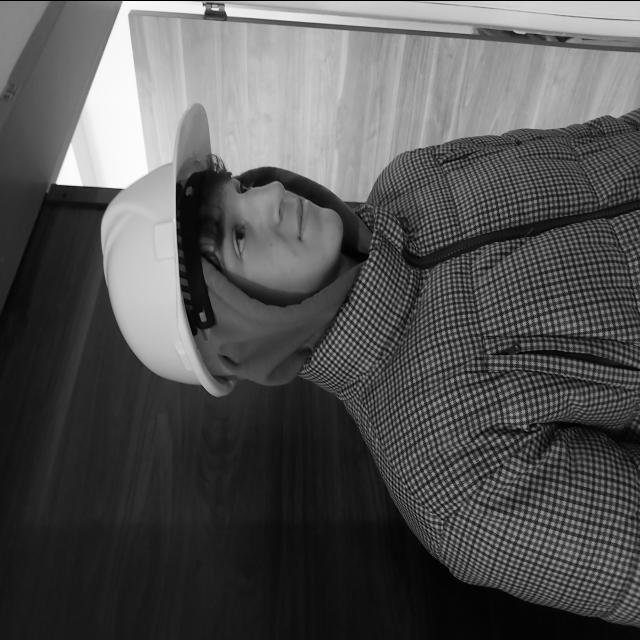safety_helmet: (99, 105, 233, 396)
